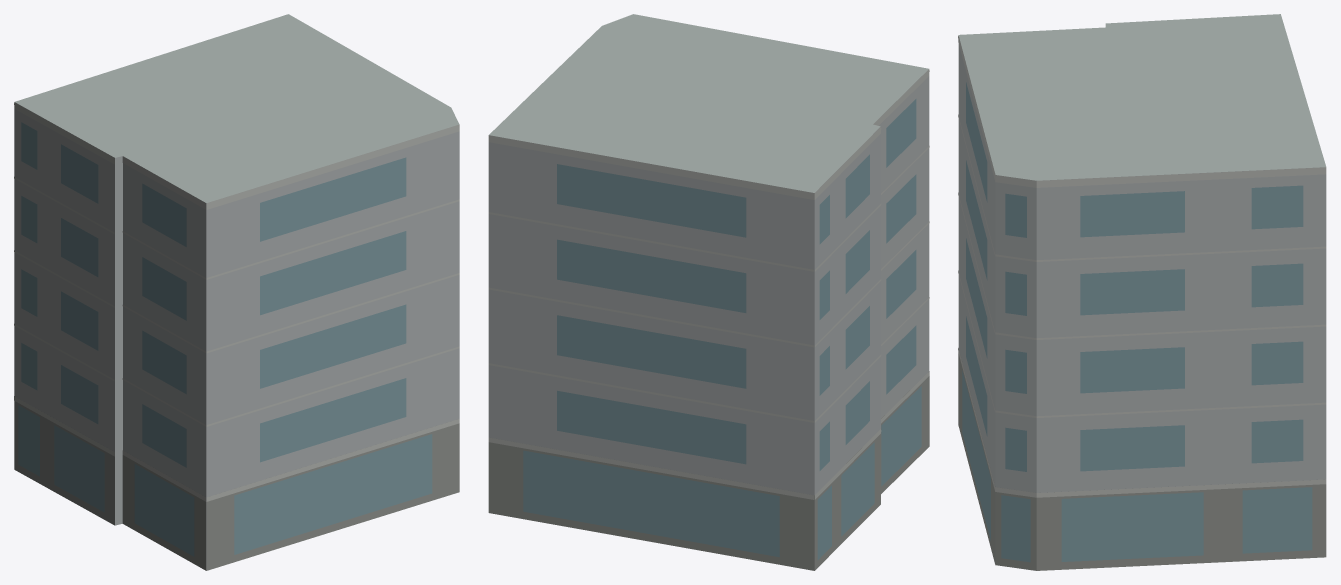
The model's file is survey-upis-32726283.glb.
3 views of the same model, side by side, from view 1: azimuth 30°, elevation 25°; view 2: azimuth 150°, elevation 25°; view 3: azimuth 270°, elevation 25° (orthographic). The views are drawn at different scales.
Visible parts, largest first — view 1: survey-upis-32726283.tmp; view 2: survey-upis-32726283.tmp; view 3: survey-upis-32726283.tmp.
Part boxes in pixels (box(x1,y1,x2,y2)): survey-upis-32726283.tmp: box(14, 14, 459, 570); survey-upis-32726283.tmp: box(488, 14, 929, 570); survey-upis-32726283.tmp: box(958, 14, 1326, 570).
Bounding box in the file's own units: 12.03 × 13.1 × 11.22.
